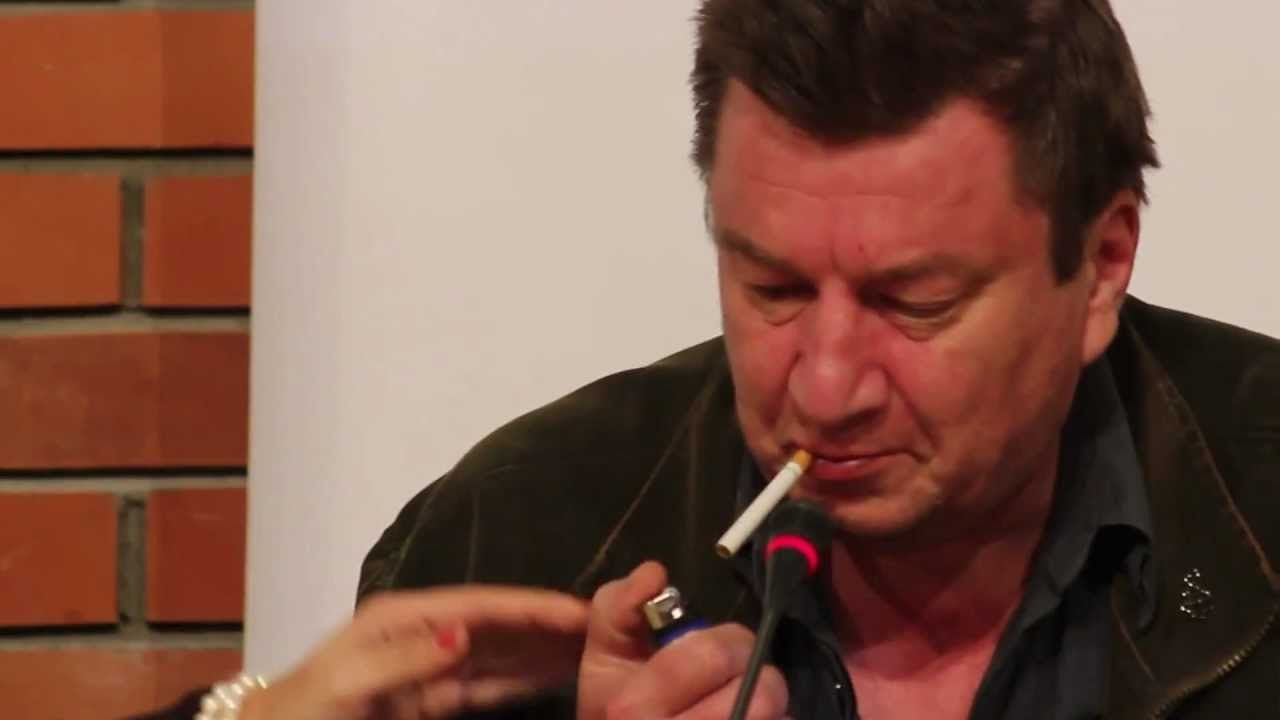cigarette: (708, 431, 824, 568)
